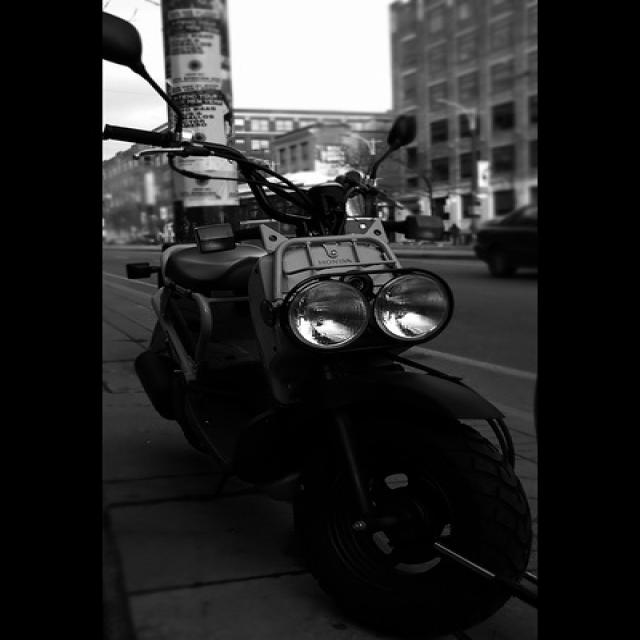car: (472, 200, 531, 282)
motorbike: (105, 9, 532, 634)
